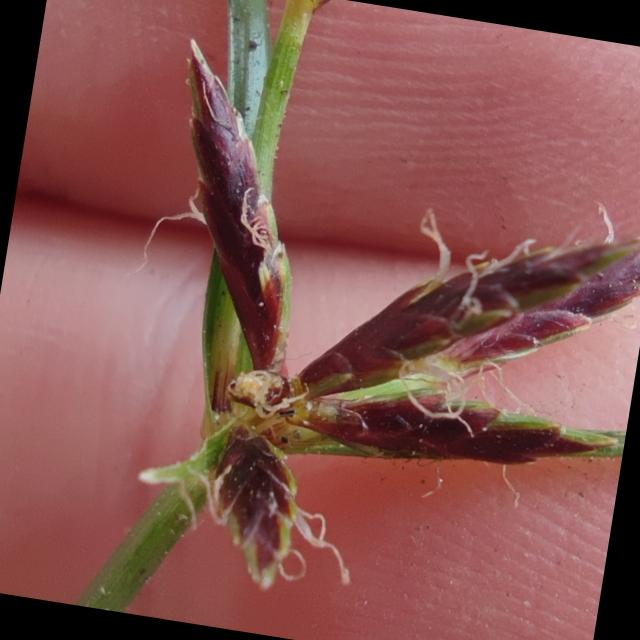cyperus: (81, 24, 640, 640)
